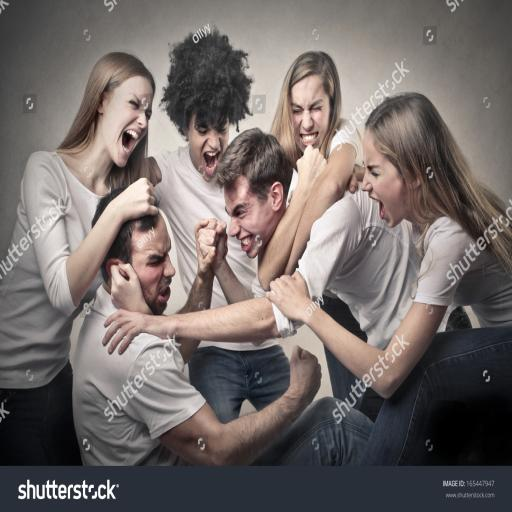fight: (16, 1, 512, 478)
